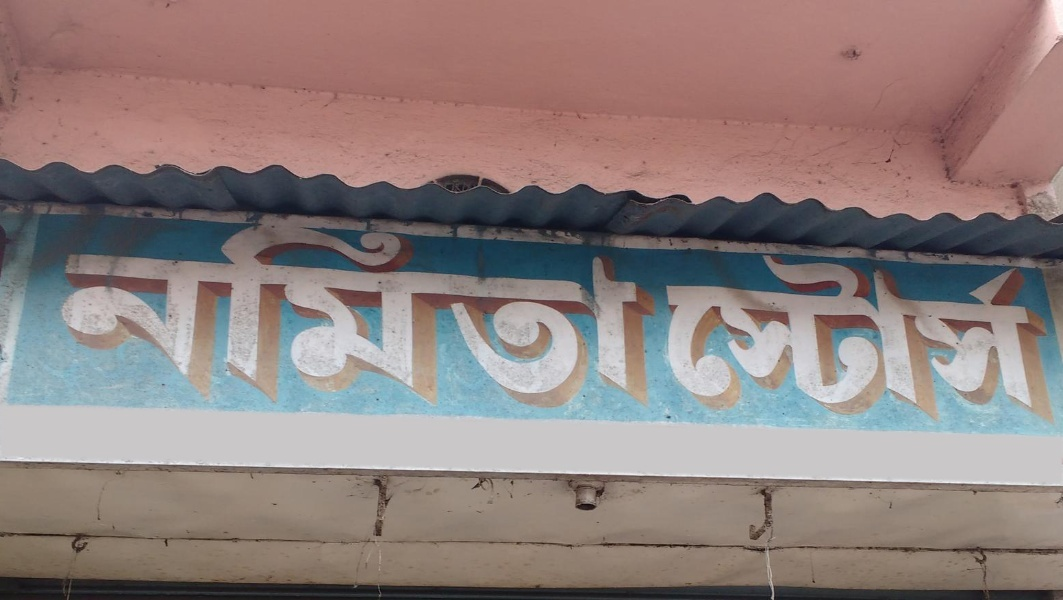text: (65, 211, 80, 416), (81, 211, 96, 416), (97, 211, 112, 416), (113, 211, 128, 416), (129, 211, 144, 416), (145, 211, 160, 416), (161, 211, 176, 416), (177, 211, 192, 416), (193, 211, 208, 416), (209, 211, 224, 416), (225, 211, 240, 416), (241, 211, 256, 416), (257, 211, 272, 416), (273, 211, 288, 416), (289, 211, 304, 416), (305, 211, 320, 416), (321, 211, 336, 416), (337, 211, 352, 416), (353, 211, 368, 416), (369, 211, 384, 416), (385, 211, 400, 416), (401, 211, 416, 416), (417, 211, 432, 416), (433, 211, 448, 416), (449, 211, 464, 416), (465, 211, 480, 416), (481, 211, 496, 416), (497, 211, 512, 416), (513, 211, 528, 416), (529, 211, 544, 416), (545, 211, 560, 416), (561, 211, 576, 416), (577, 211, 592, 416), (593, 211, 608, 416), (609, 211, 624, 416), (625, 211, 640, 416), (641, 211, 655, 416), (673, 247, 688, 431), (689, 247, 704, 431), (705, 247, 720, 431), (721, 247, 736, 431), (737, 247, 752, 431), (753, 247, 768, 431), (769, 247, 784, 431), (785, 247, 800, 431), (801, 247, 816, 431), (817, 247, 832, 431), (833, 247, 848, 431), (849, 247, 864, 431), (865, 247, 880, 431), (881, 247, 896, 431), (897, 247, 912, 431), (913, 247, 928, 431), (929, 247, 944, 431), (945, 247, 960, 431), (961, 247, 976, 431), (977, 247, 992, 431), (993, 247, 1008, 431), (1009, 247, 1024, 431), (1025, 247, 1040, 431), (1041, 247, 1054, 431), (661, 247, 672, 431), (63, 211, 64, 416)
